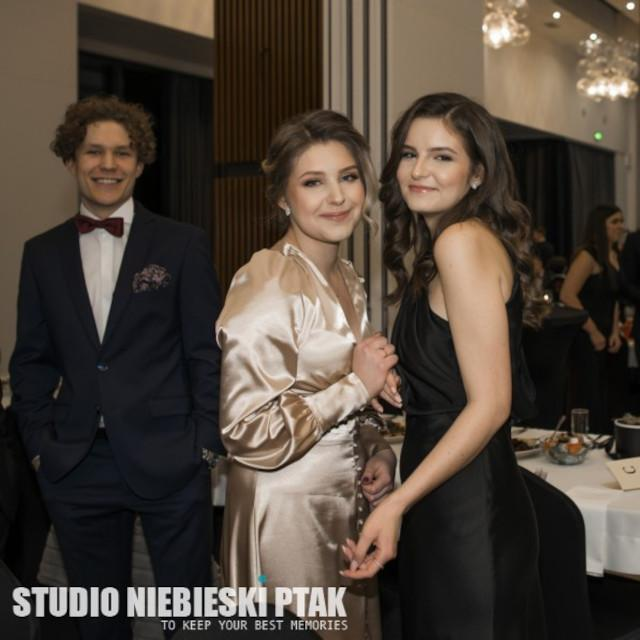kobieta: (380, 89, 528, 640), (223, 108, 373, 633)
mezczyzna: (11, 99, 216, 551)
